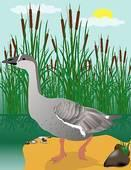bird: (1, 50, 115, 164)
